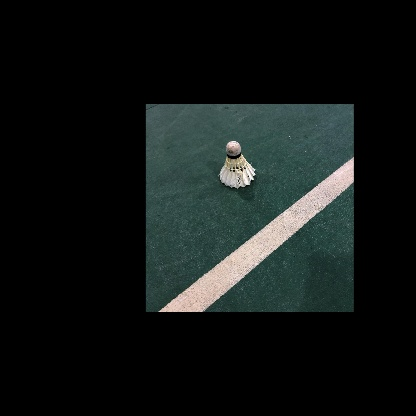ball_single: (220, 141, 256, 189)
